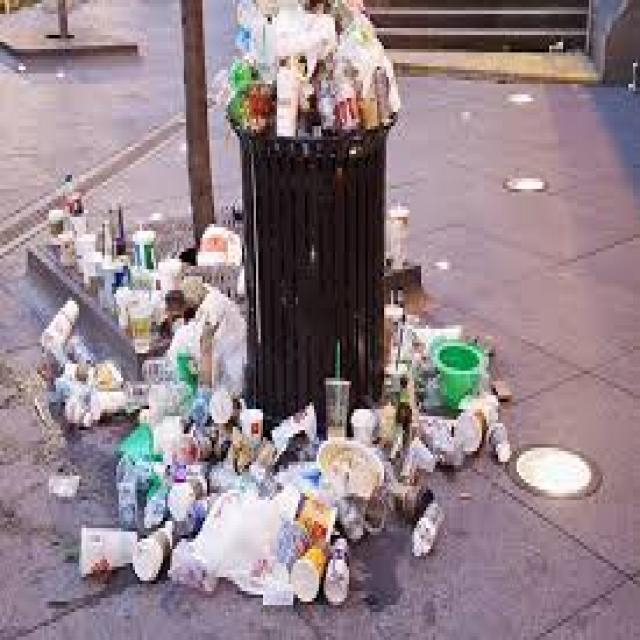garbage: (70, 350, 491, 594), (42, 182, 245, 438), (226, 0, 398, 133)
